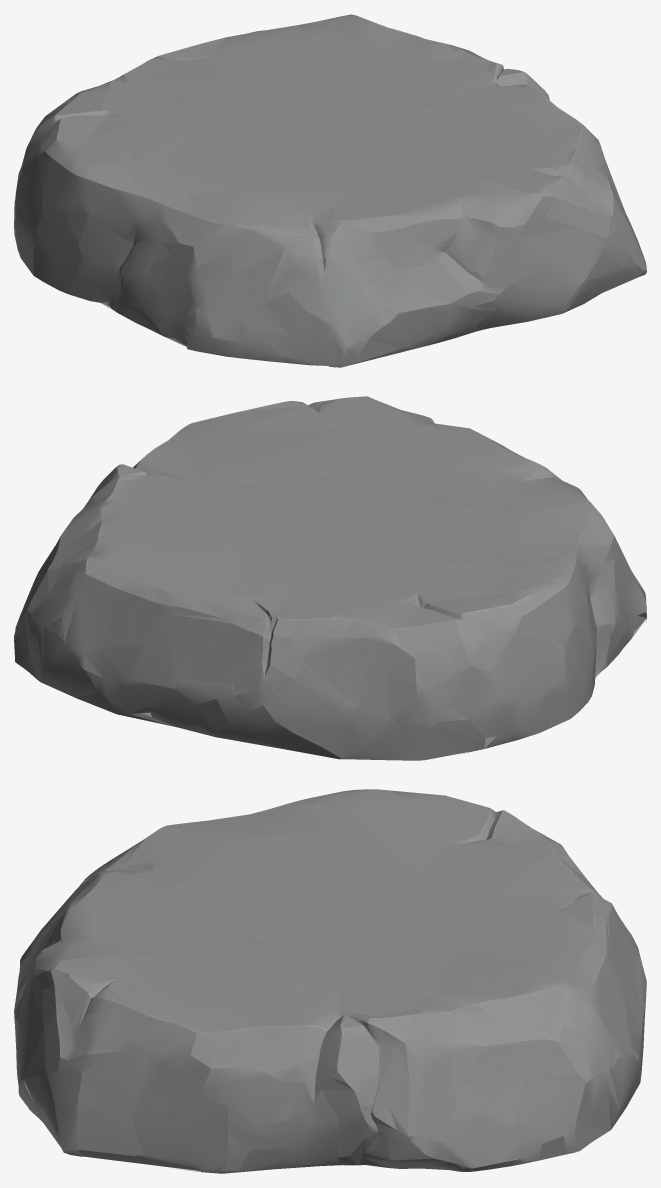
The model's file is nature-rock-wide.glb.
3 renders of one model, top to bottom at view 1: azimuth 30°, elevation 25°; view 2: azimuth 150°, elevation 25°; view 3: azimuth 270°, elevation 25°, orthographic. The views are drawn at different scales.
Visible parts, largest first — view 1: nature-rock-wide-fit; view 2: nature-rock-wide-fit; view 3: nature-rock-wide-fit.
Part boxes in pixels (x1,y1,x2,y2): nature-rock-wide-fit: (14, 14, 646, 367); nature-rock-wide-fit: (14, 396, 646, 760); nature-rock-wide-fit: (14, 789, 646, 1173).
Size of the model in its own units: 1.6 by 0.35 by 1.55.
1 material, 1 textured.
